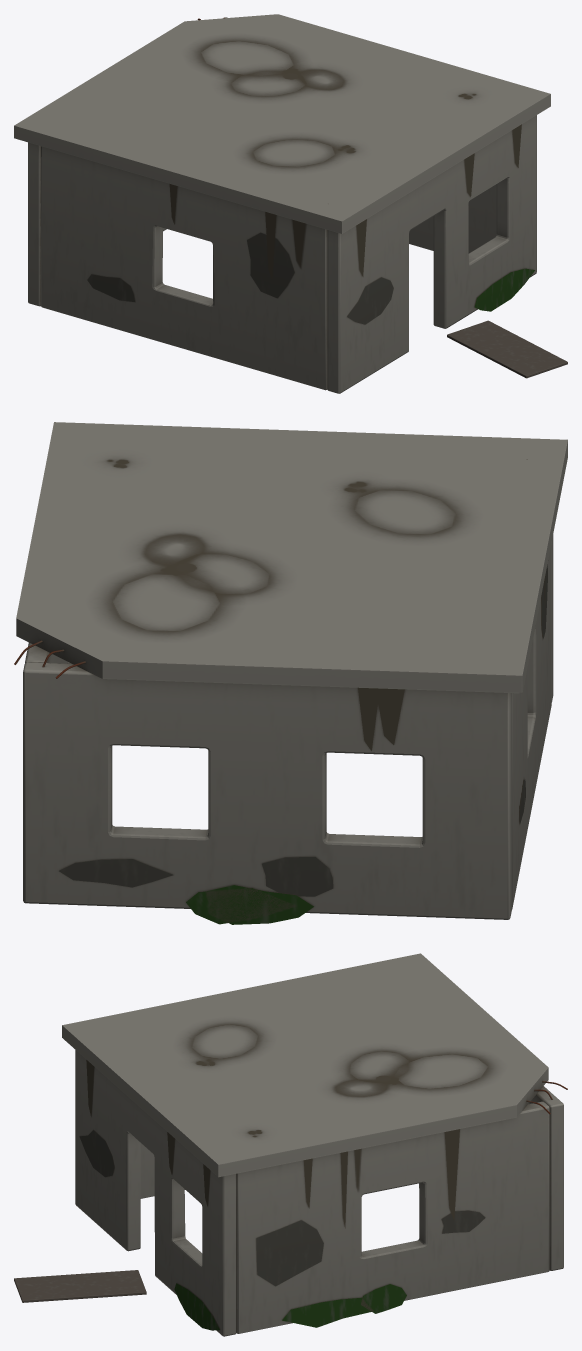
File: casa_f.glb
3 views of the same model, one above another, from view 1: azimuth 30°, elevation 25°; view 2: azimuth 150°, elevation 25°; view 3: azimuth 270°, elevation 25° (orthographic). The views are drawn at different scales.
Parts seen in each view (by area): view 1: g_casa_f; view 2: g_casa_f; view 3: g_casa_f.
Boxes of the visible parts, x1,y1,x2,y2 form: g_casa_f: (14,14,567,393); g_casa_f: (14,422,567,924); g_casa_f: (14,953,567,1336).
Size of the model in its own units: 7.94 by 3.28 by 8.79.
Materials: 1 (1 with a texture image).
